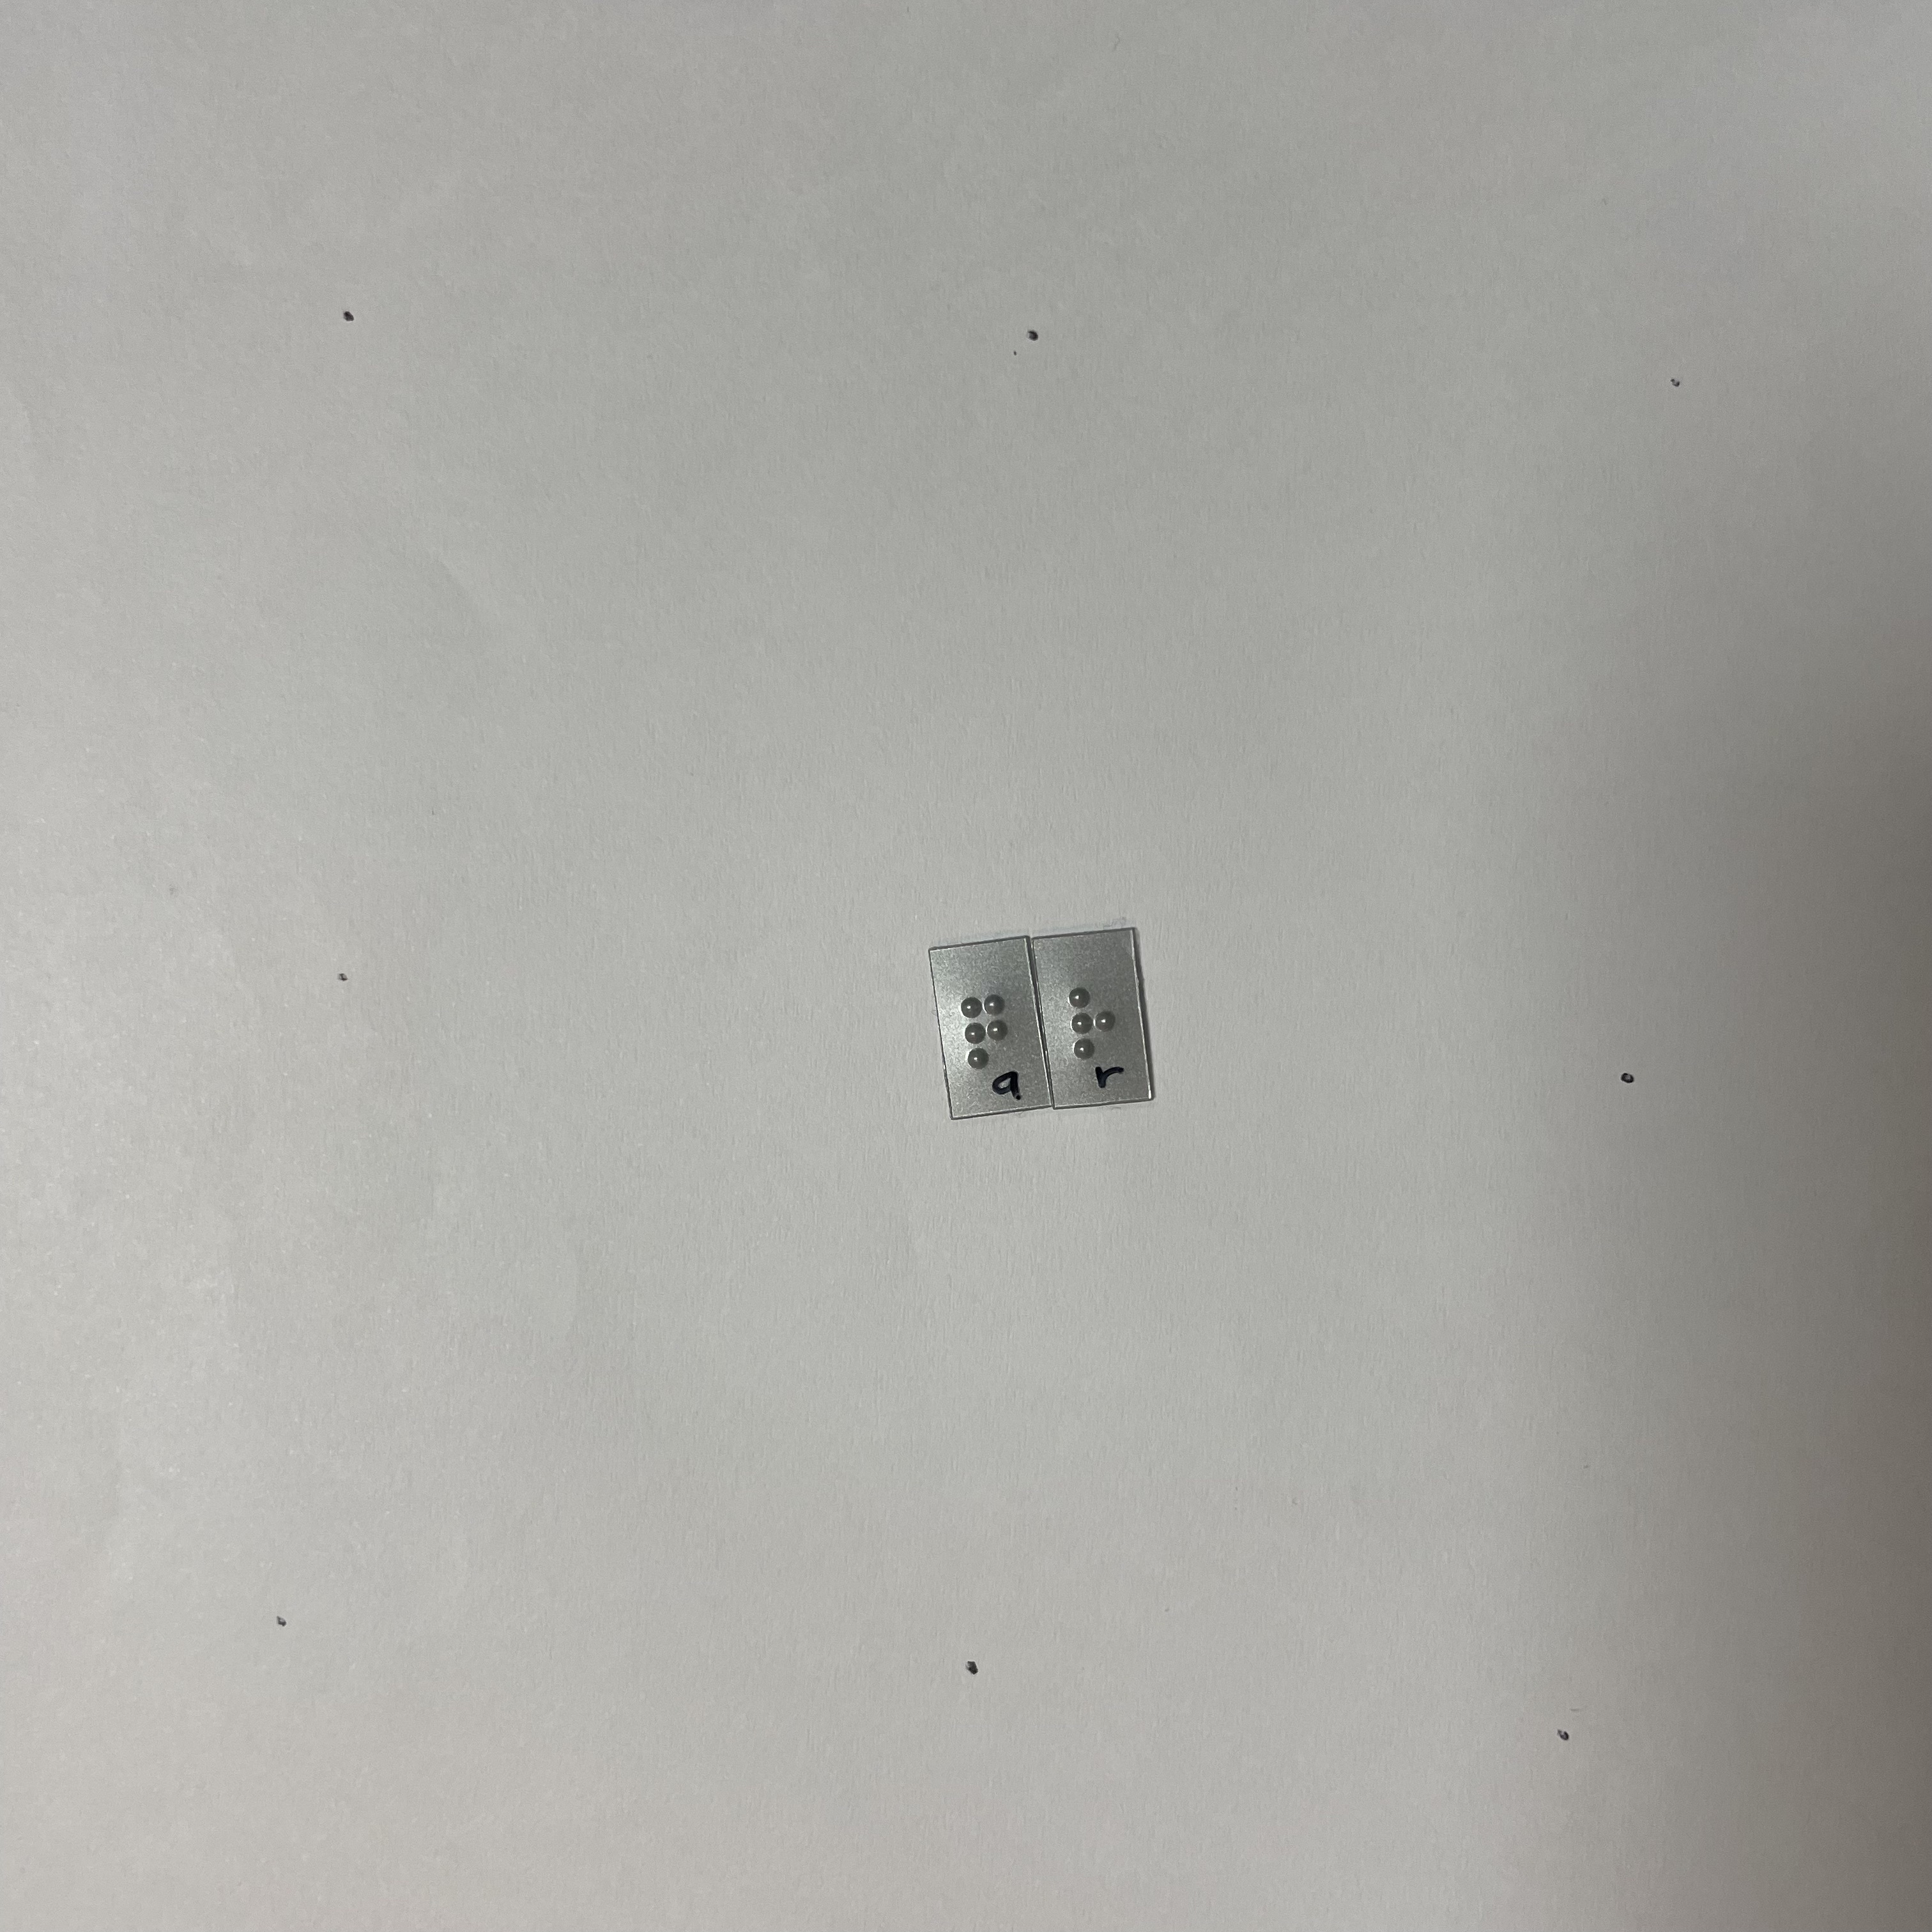q: (954, 987, 1015, 1079)
r: (1062, 977, 1126, 1062)
